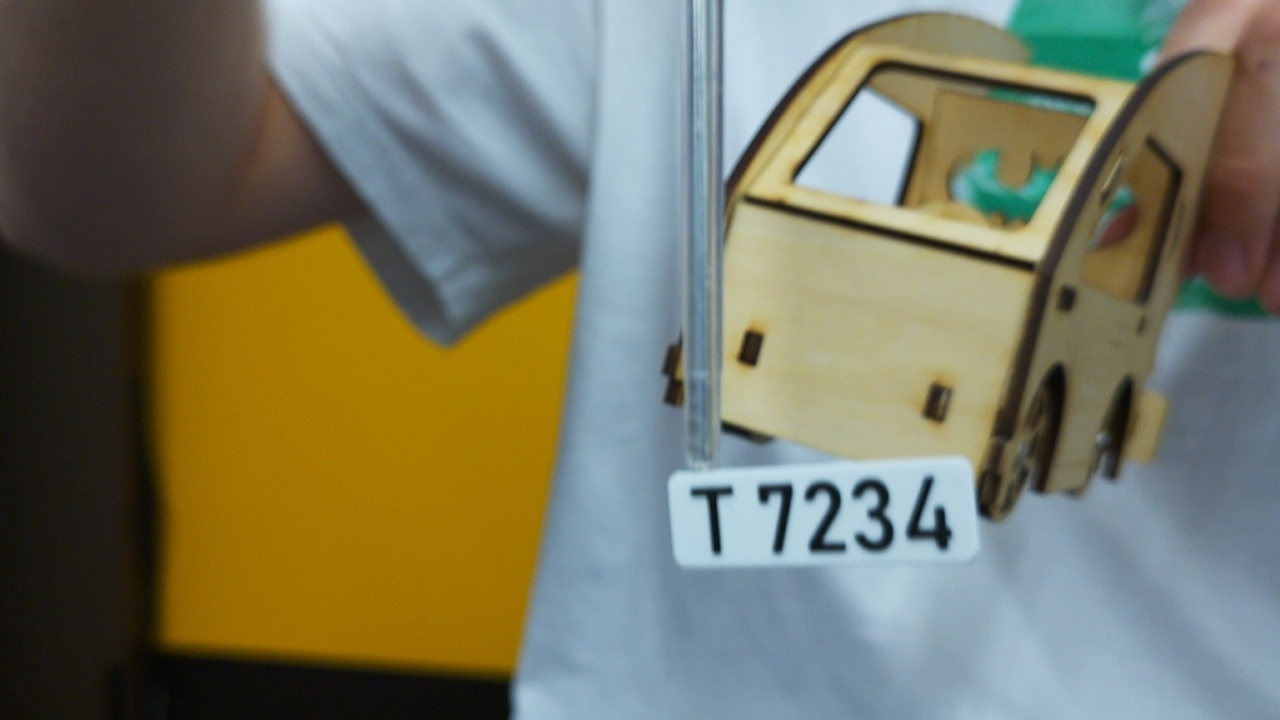license_plate: (665, 452, 985, 572)
